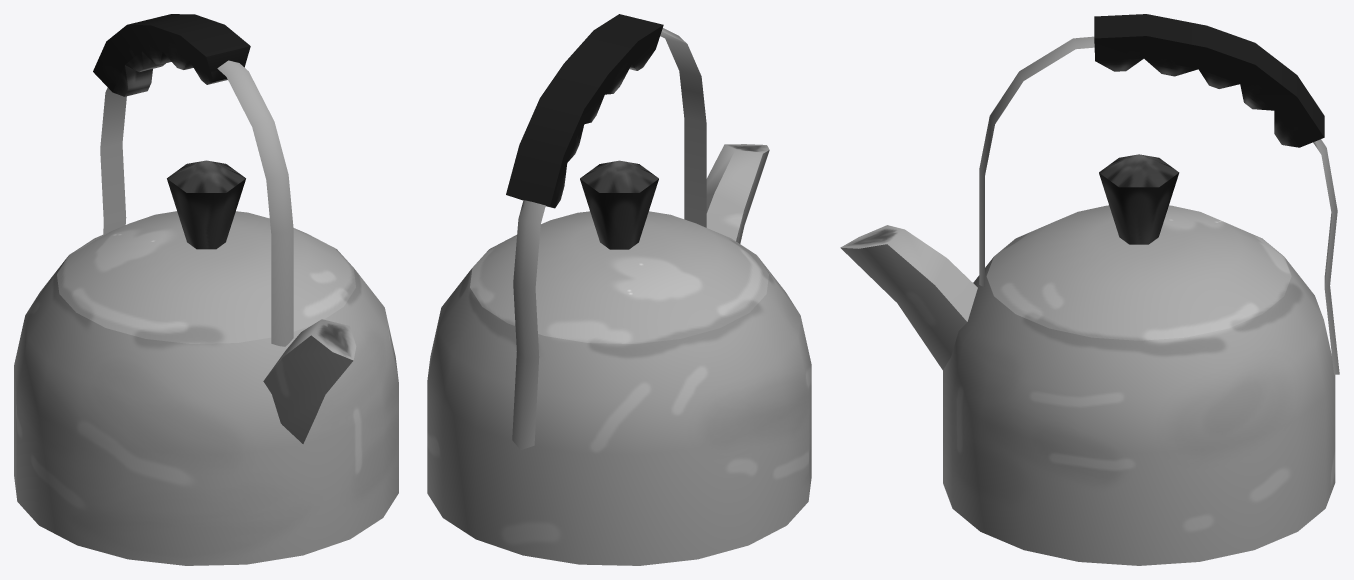
Rendered from obj_TeaKettle.fbx.
3 renders of one model, left to right at view 1: azimuth 30°, elevation 25°; view 2: azimuth 150°, elevation 25°; view 3: azimuth 270°, elevation 25°, orthographic.
Parts seen in each view (by area): view 1: obj_TeaKettle; view 2: obj_TeaKettle; view 3: obj_TeaKettle.
Part boxes in pixels (box(x1,y1,x2,y2)): obj_TeaKettle: box(14, 14, 398, 565); obj_TeaKettle: box(427, 14, 811, 565); obj_TeaKettle: box(840, 14, 1339, 565).
Size of the model in its own units: 0.1603 by 0.2066 by 0.2042.
